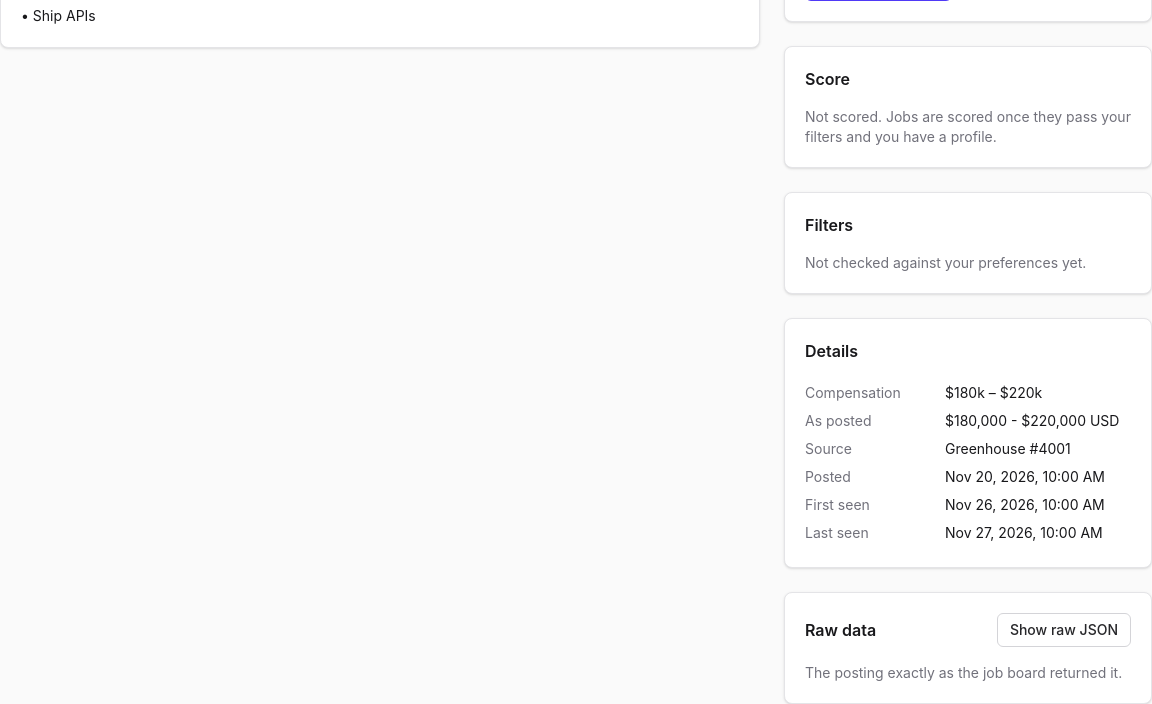
JobDetailView › shows the raw payload on request
This screenshot has width=1152, height=704.
(page scrolled)
Click the button "Show raw JSON". click: (1064, 630)
box: [997,613,1131,647]
(page scrolled)
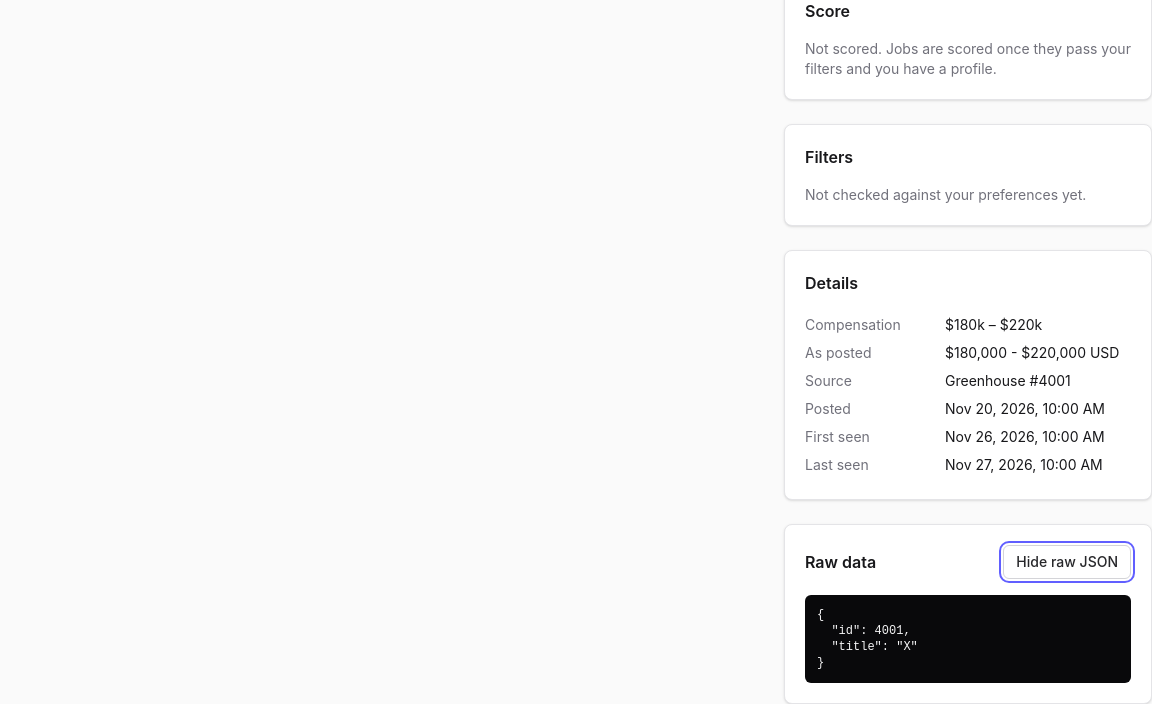
Result: the text named "Raw job payload" shows "\"id\": 4001" at [817,608,918,670]
